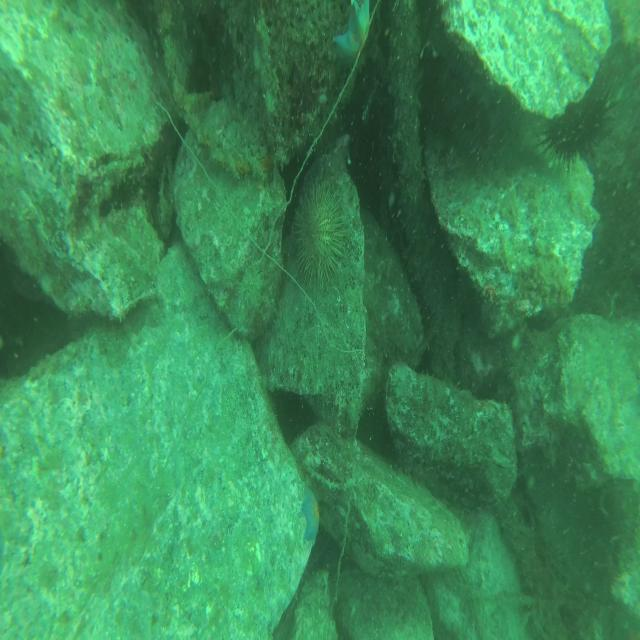echinus: (293, 181, 349, 291), (540, 90, 613, 172)
starfish: (334, 1, 374, 66), (300, 487, 323, 552)
